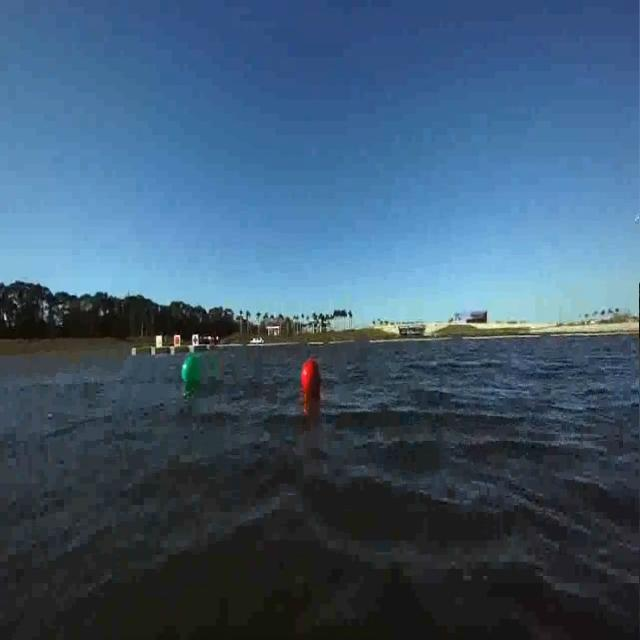green-buoy: (178, 351, 215, 399)
red-buoy: (296, 357, 324, 422)
